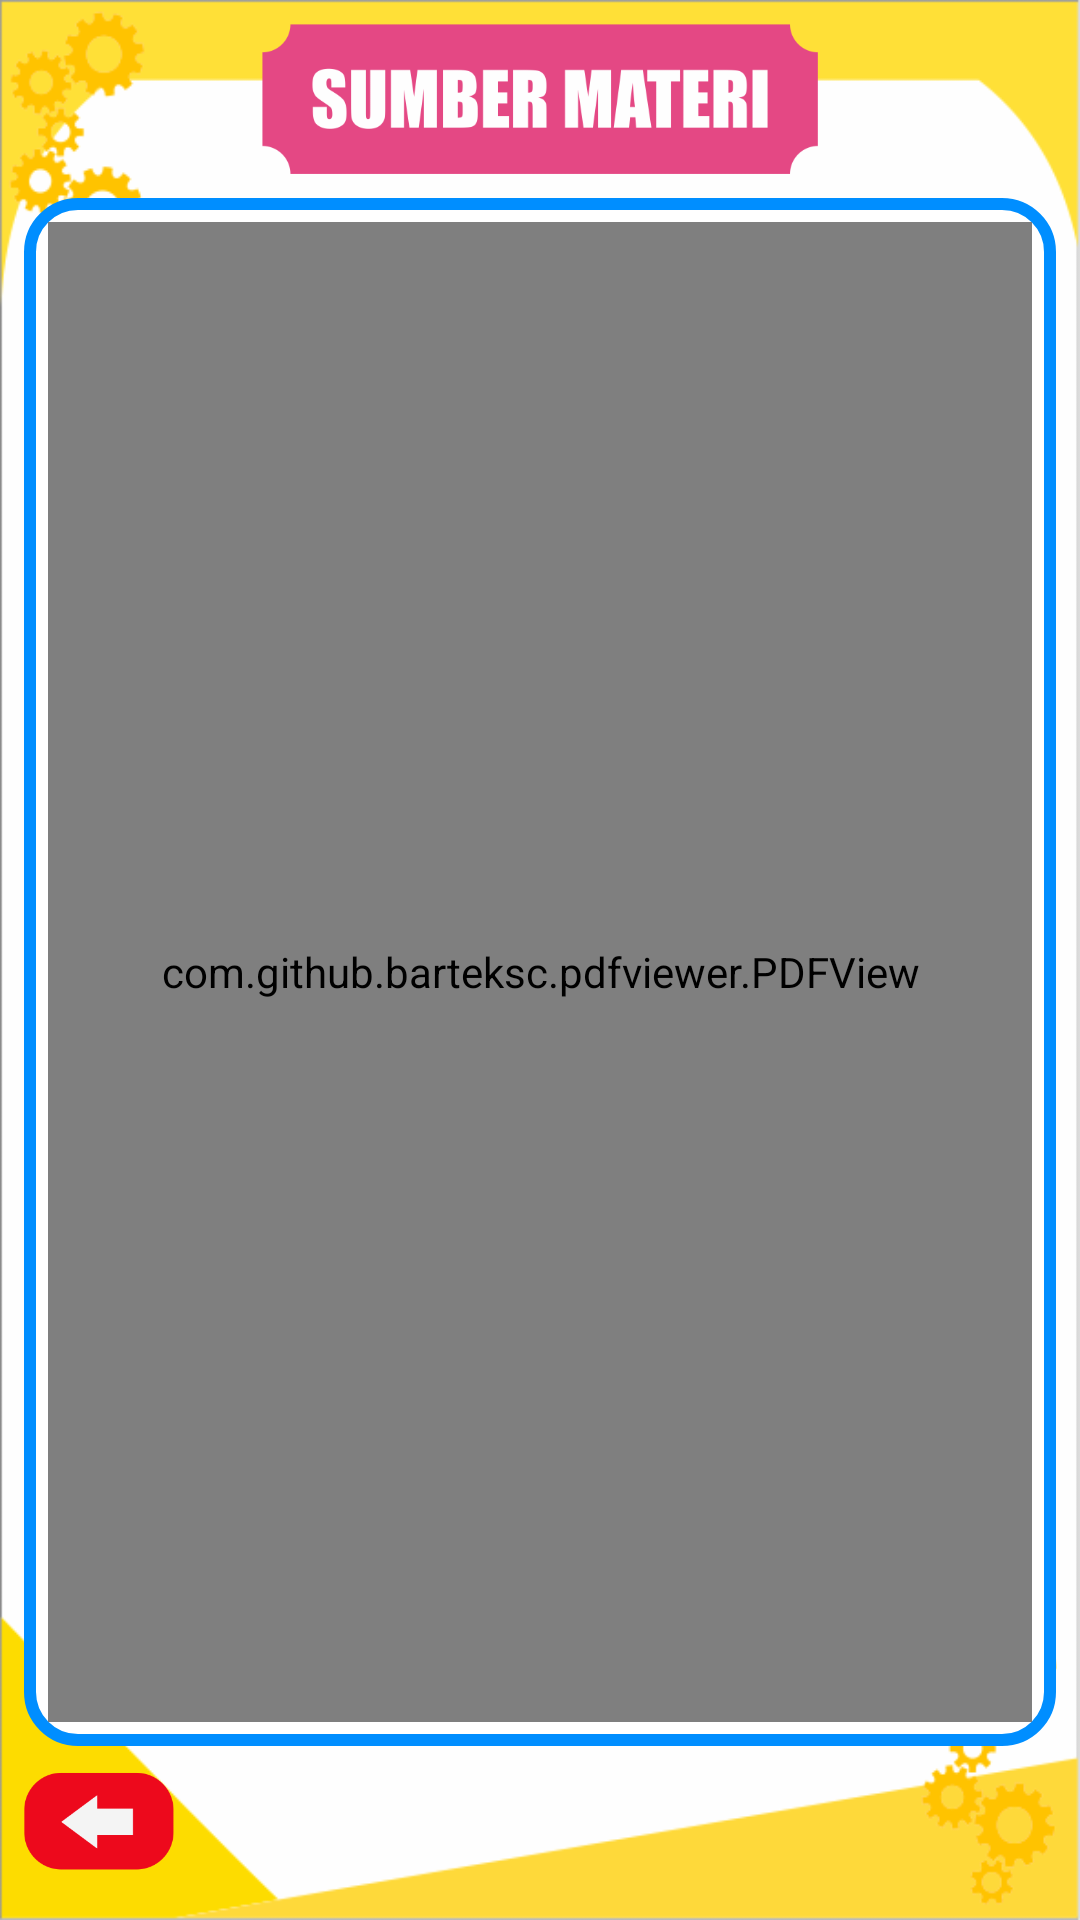

Screen size 1080x1920. Icon name, then its center in pixels as [x,y]:
back: [99,1808]
